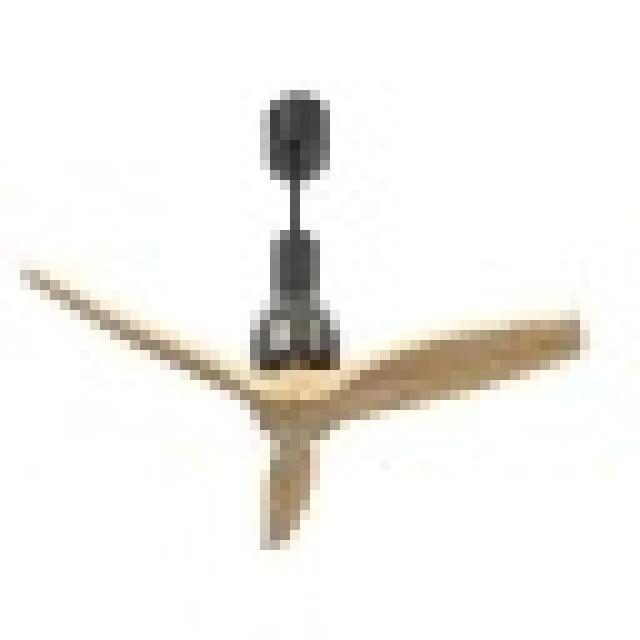Bulb: (18, 211, 624, 535)
